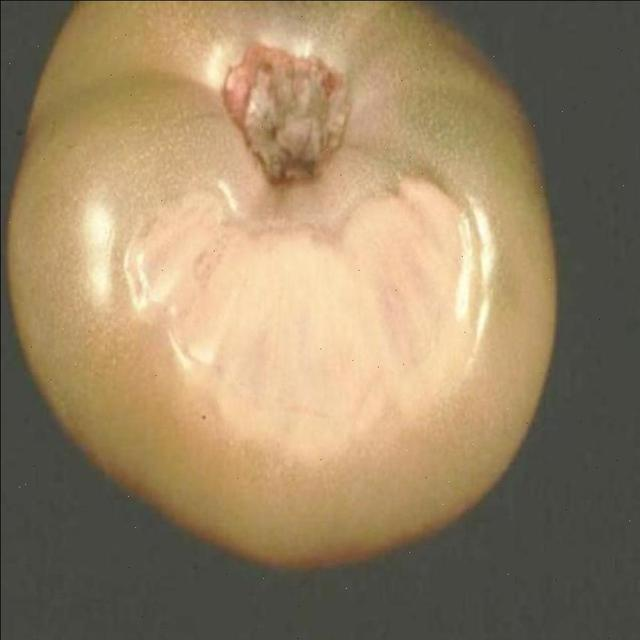Sunscald Fruit: (80, 176, 299, 427)
